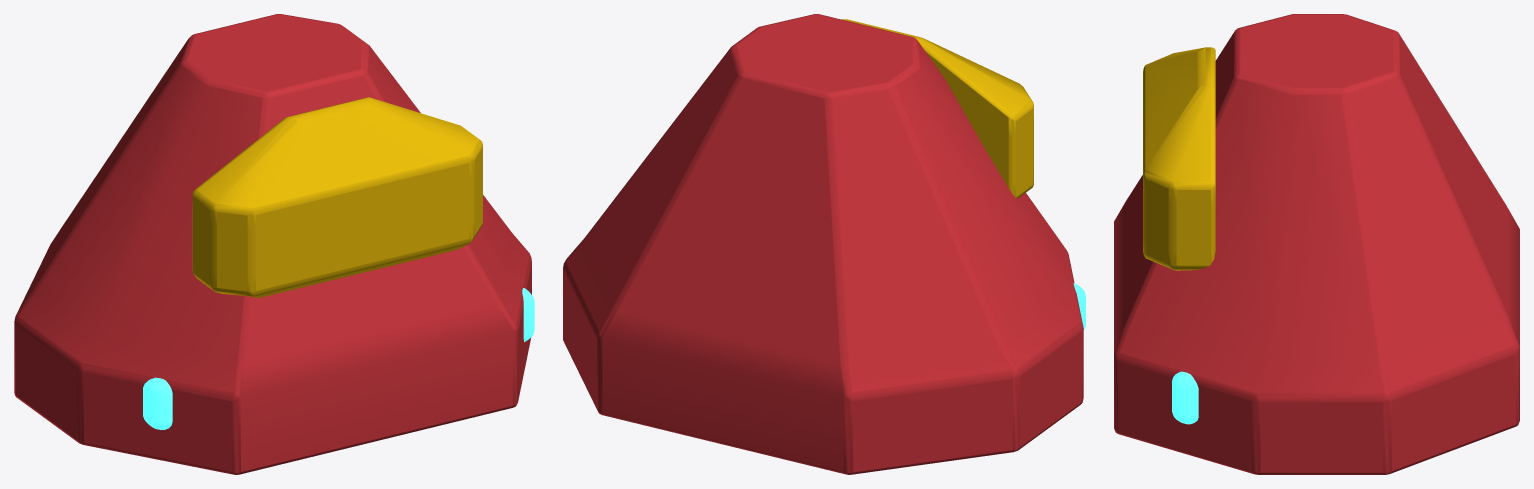
File: AnimalHeadFront_Set05_Afterburn.fbx
The picture shows the model from 3 angles, left to right: view 1: azimuth 30°, elevation 25°; view 2: azimuth 150°, elevation 25°; view 3: azimuth 270°, elevation 25°; orthographic projection.
Visible parts, largest first — view 1: AnimalHeadFront_Set05_Afterburn; view 2: AnimalHeadFront_Set05_Afterburn; view 3: AnimalHeadFront_Set05_Afterburn.
Part boxes in pixels (box(x1,y1,x2,y2)): AnimalHeadFront_Set05_Afterburn: box(14, 14, 534, 474); AnimalHeadFront_Set05_Afterburn: box(563, 14, 1085, 474); AnimalHeadFront_Set05_Afterburn: box(1114, 14, 1519, 474).
Size of the model in its own units: 0.36 by 0.24 by 0.28.
